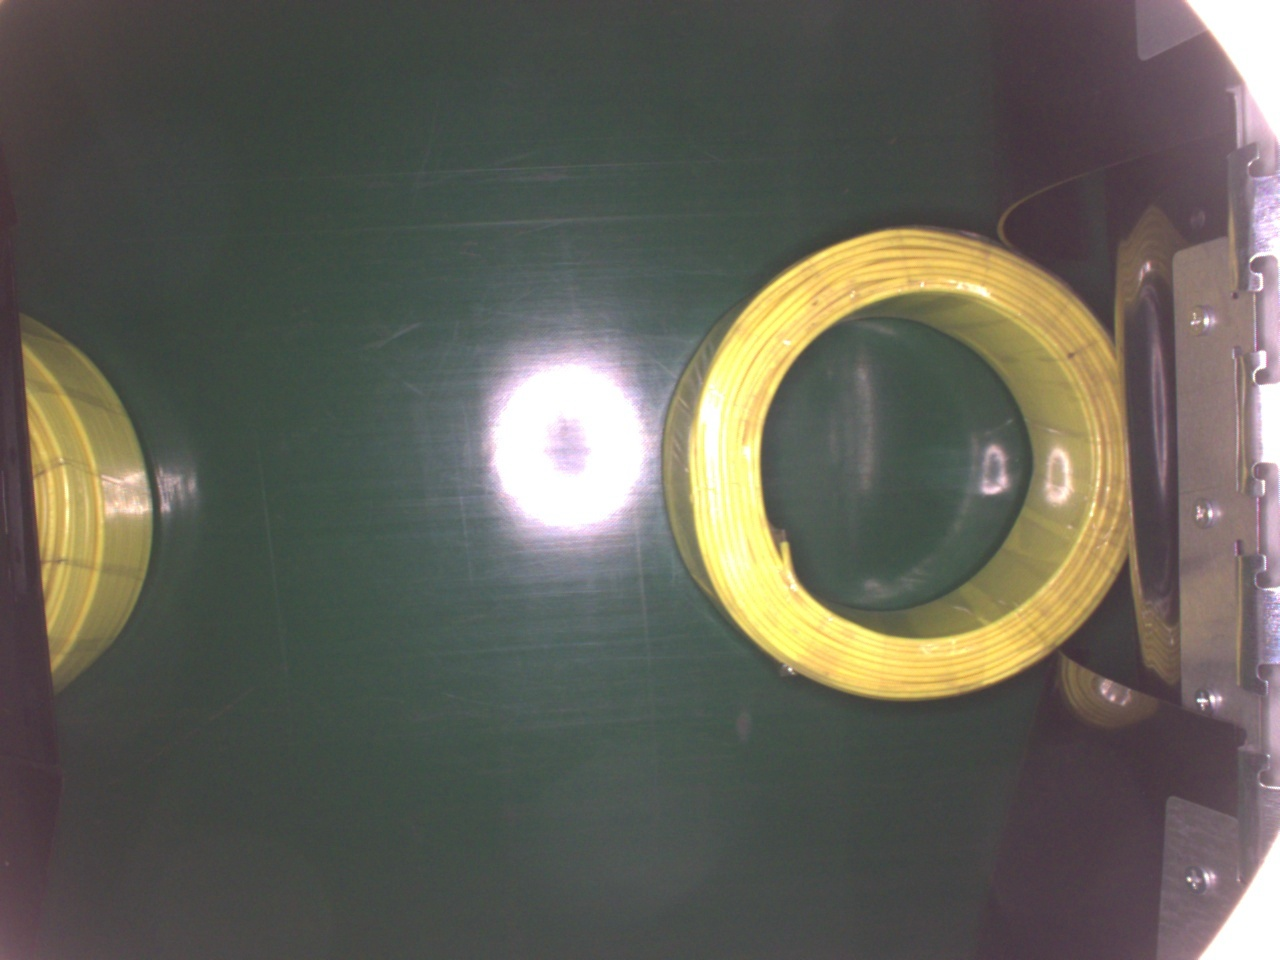yellow: (660, 218, 1132, 704), (18, 305, 159, 696)
